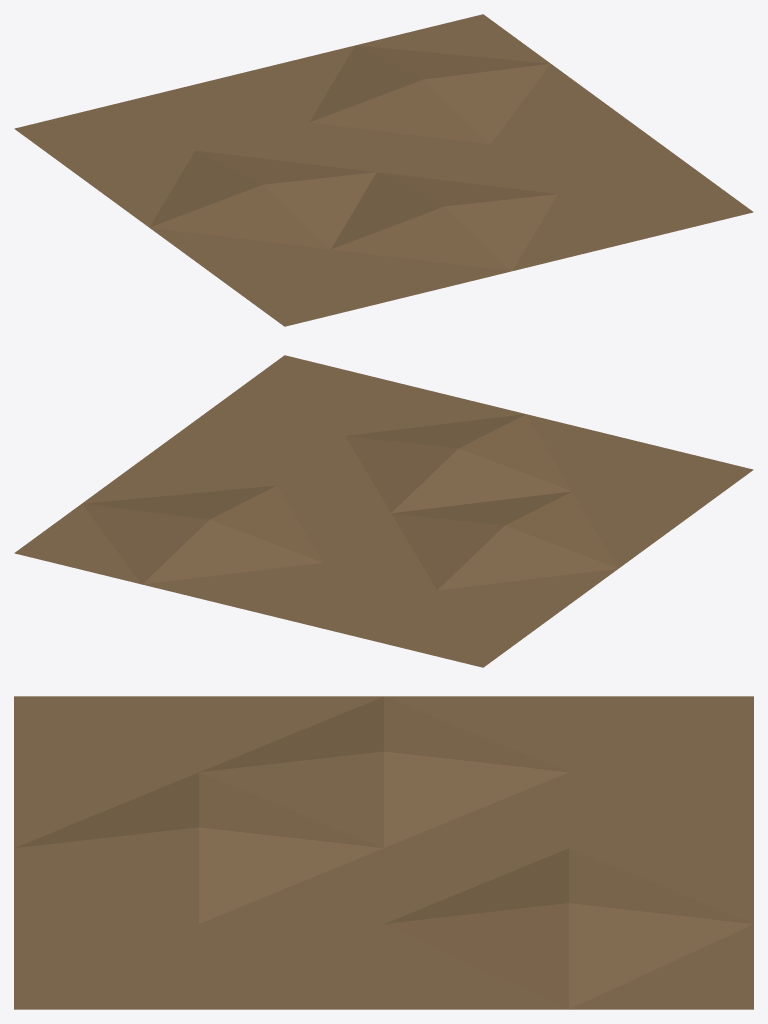
Rendered from Env_Path_Grid1.glb.
The picture shows the model from 3 angles, top to bottom: view 1: azimuth 30°, elevation 25°; view 2: azimuth 150°, elevation 25°; view 3: azimuth 270°, elevation 25°; orthographic projection. The views are drawn at different scales.
Parts seen in each view (by area): view 1: SM_Env_Path_Dirt_01; view 2: SM_Env_Path_Dirt_01; view 3: SM_Env_Path_Dirt_01.
Part boxes in pixels (<box>): SM_Env_Path_Dirt_01: <box>14,14,753,326</box>; SM_Env_Path_Dirt_01: <box>14,355,753,667</box>; SM_Env_Path_Dirt_01: <box>14,696,753,1009</box>.
Size of the model in its own units: 3 by 0.0937 by 3.
1 material, 1 textured.
